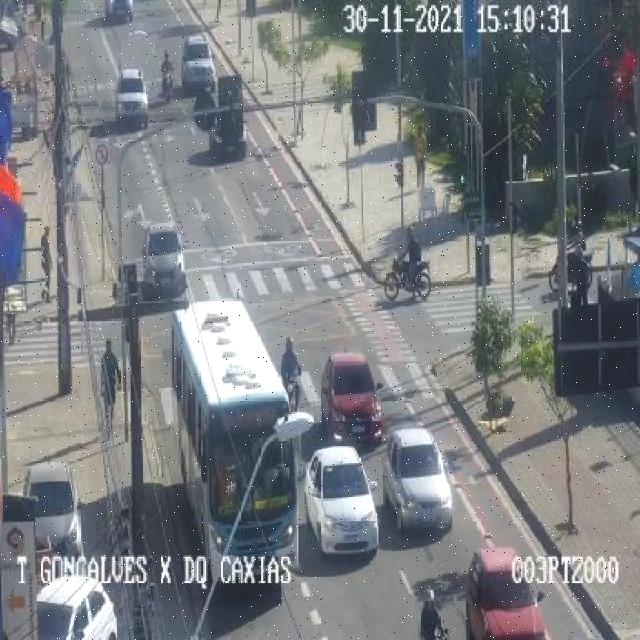Bus: (164, 301, 304, 590)
Car: (300, 444, 378, 561), (382, 424, 457, 538), (463, 546, 542, 640), (25, 457, 87, 559), (316, 352, 384, 445), (38, 571, 121, 640), (143, 219, 187, 304), (112, 66, 149, 130), (180, 33, 220, 92), (206, 114, 249, 161), (104, 0, 136, 22)
Cycle: (383, 254, 432, 304), (549, 243, 598, 293), (281, 368, 305, 412), (159, 65, 175, 101)
